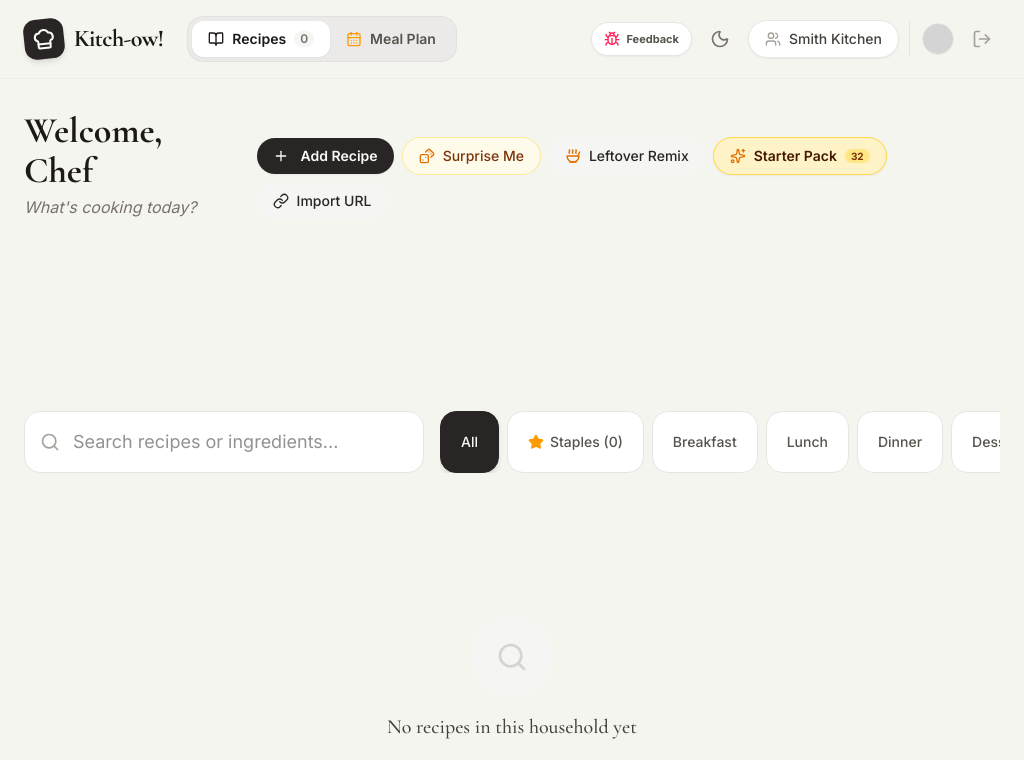
Test case: Import Recipe from URL UI & State › opens Import URL modal in a ready, non-loading state with clear instructions
Click Import URL button in header action bar
Click the button "Import URL". click: (322, 201)
box: [257,183,388,219]
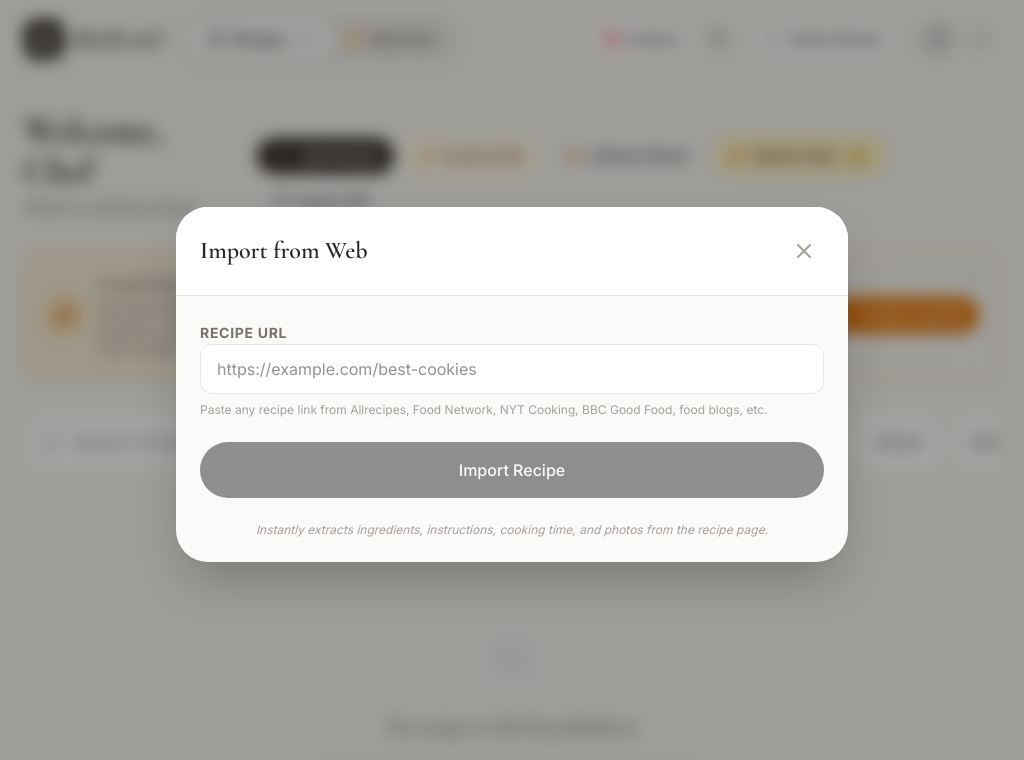
expect the heading "Import from Web" is shown: met, box [200,234,368,266]
expect the button "Import Recipe" is disabled: met, box [200,442,824,498]
